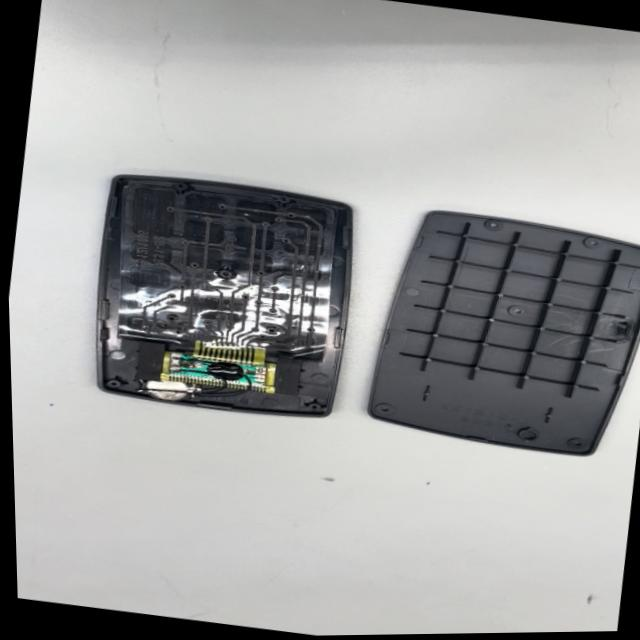back_cover: (352, 200, 640, 467)
front_panel: (74, 159, 374, 446)
